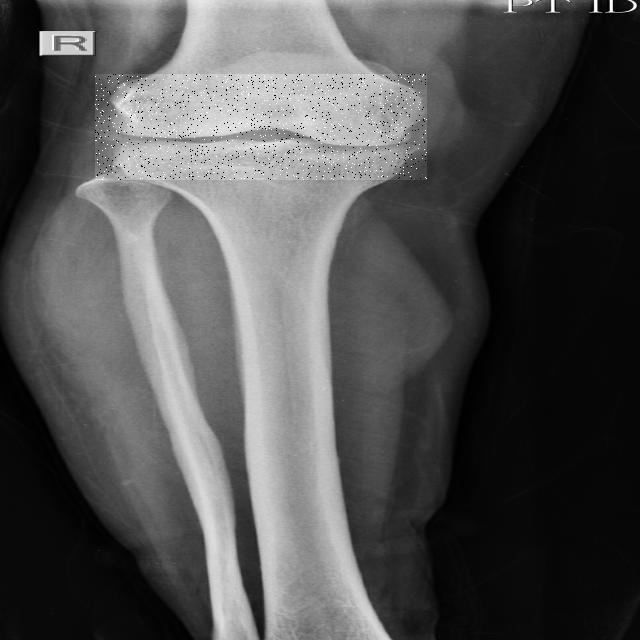normal: (95, 74, 427, 180)
